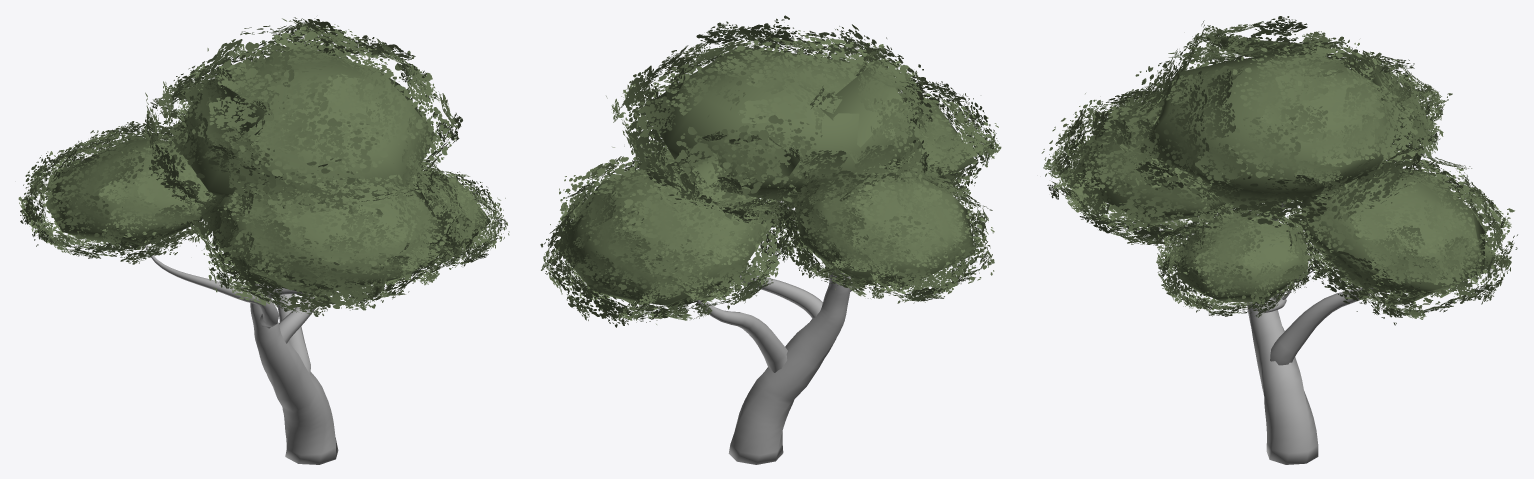
The model's file is Albero_big.fbx.
3 views of the same model, side by side, from view 1: azimuth 30°, elevation 25°; view 2: azimuth 150°, elevation 25°; view 3: azimuth 270°, elevation 25° (orthographic). The views are drawn at different scales.
Parts seen in each view (by area): view 1: Fogliesingole4, Fogliesingole8, Fogliesingole5, Albero3_low, Fogliesingole7; view 2: Fogliesingole4, Fogliesingole6, Fogliesingole5, Albero3_low, Fogliesingole8; view 3: Fogliesingole4, Fogliesingole6, Fogliesingole8, Fogliesingole7, Albero3_low, Fogliesingole5.
Boxes of the visible parts, x1,y1,x2,y2 form: Fogliesingole4: (140, 17, 462, 219); Fogliesingole8: (182, 158, 478, 316); Fogliesingole5: (18, 113, 215, 264); Albero3_low: (145, 245, 338, 464); Fogliesingole7: (413, 159, 509, 269); Fogliesingole4: (606, 15, 940, 237); Fogliesingole6: (540, 147, 797, 327); Fogliesingole5: (771, 158, 994, 303); Albero3_low: (697, 200, 854, 464); Fogliesingole8: (767, 60, 1001, 205); Fogliesingole4: (1103, 16, 1443, 231); Fogliesingole6: (1287, 144, 1517, 325); Fogliesingole8: (1041, 84, 1271, 245); Fogliesingole7: (1156, 204, 1327, 317); Albero3_low: (1170, 201, 1373, 464); Fogliesingole5: (1327, 47, 1452, 160).
Bounding box in the file's own units: 3453 × 3370 × 3642.
